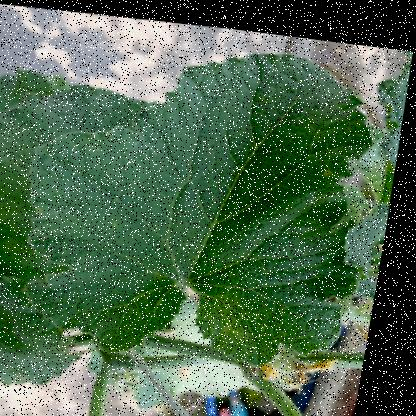Normal: (10, 26, 391, 372)
